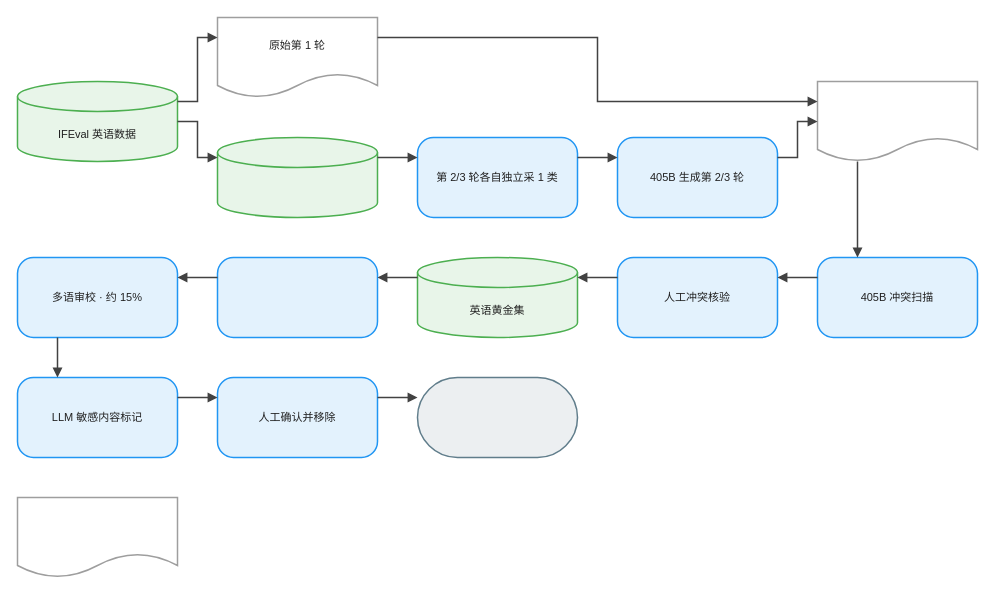
Some shapes in this 996 by 596 pixel diagram are drawn without their labels. Each missing label, with the centre of its shape:
30 类可验证指令: [297,177]
4,501 行 · 8 语: [497,417]
405B 翻译七种语言: [297,297]
CSV 56 行缺第 3 轮: [97,537]
两组英语三轮候选: [897,121]
